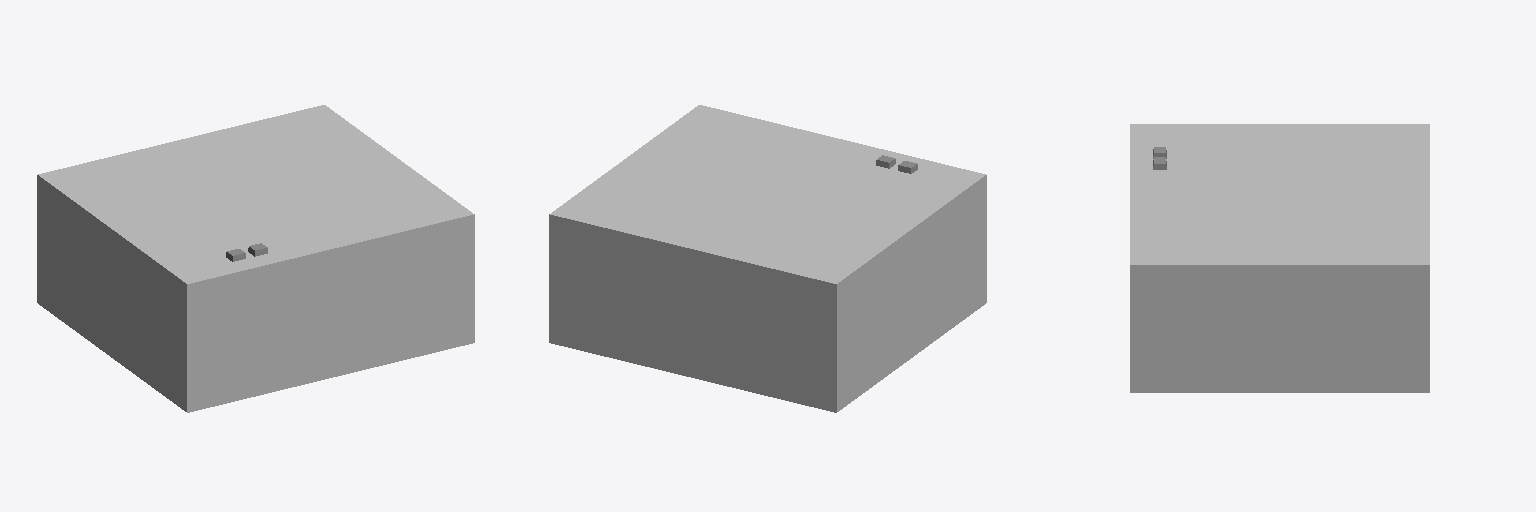
Rendered from sp_storage01.obj.
3 renders of one model, left to right at view 1: azimuth 30°, elevation 25°; view 2: azimuth 150°, elevation 25°; view 3: azimuth 270°, elevation 25°, orthographic.
Visible parts, largest first — view 1: (null); view 2: (null); view 3: (null).
Part boxes in pixels (left/top/right/bottom): (null): left=37, top=105, right=474, bottom=412; (null): left=549, top=105, right=986, bottom=412; (null): left=1130, top=124, right=1429, bottom=392.
Size of the model in its own units: 40.15 by 17.96 by 36.31.